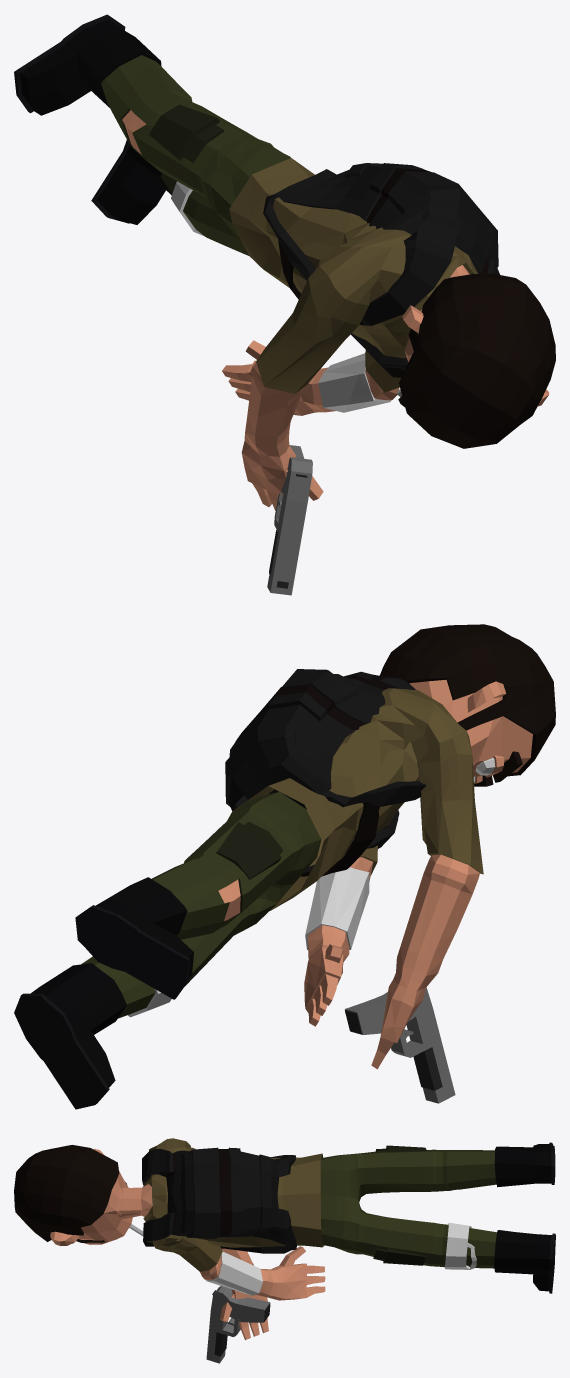
File: frame_0031.obj
The picture shows the model from 3 angles, top to bottom: view 1: azimuth 30°, elevation 25°; view 2: azimuth 150°, elevation 25°; view 3: azimuth 270°, elevation 25°; orthographic projection. The views are drawn at different scales.
Visible parts, largest first — view 1: Body, Gun; view 2: Body, Gun; view 3: Body, Gun.
Part boxes in pixels (left/top/right/bottom): Body: left=14, top=14, right=555, bottom=510; Gun: left=267, top=445, right=312, bottom=595; Body: left=14, top=624, right=555, bottom=1109; Gun: left=345, top=987, right=455, bottom=1103; Body: left=14, top=1138, right=555, bottom=1339; Gun: left=206, top=1286, right=270, bottom=1363.
Size of the model in its own units: 1.33 by 2.13 by 4.15.
